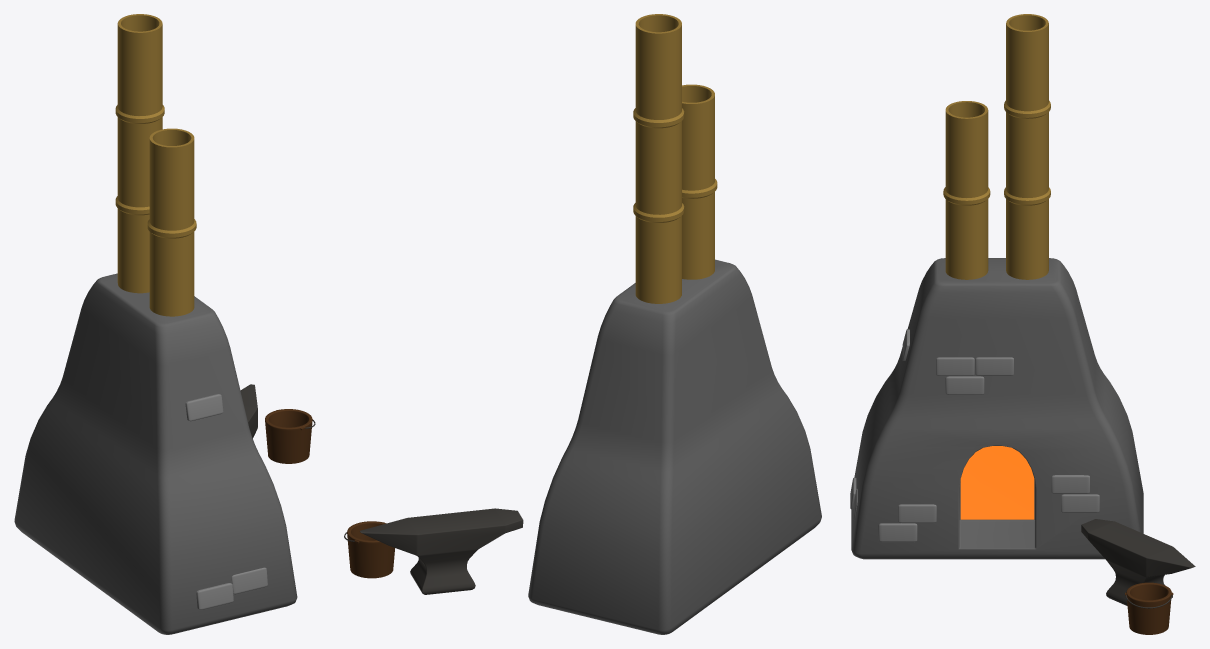
The model's file is Kowal.fbx.
The picture shows the model from 3 angles, left to right: view 1: azimuth 30°, elevation 25°; view 2: azimuth 150°, elevation 25°; view 3: azimuth 270°, elevation 25°; orthographic projection. The views are drawn at different scales.
Visible parts, largest first — view 1: Cube; view 2: Cube; view 3: Cube.
Part boxes in pixels (bbox=[...]): Cube: bbox=[14, 14, 315, 634]; Cube: bbox=[344, 14, 821, 634]; Cube: bbox=[850, 14, 1195, 634].
Bounding box in the file's own units: 372 × 622 × 384.
